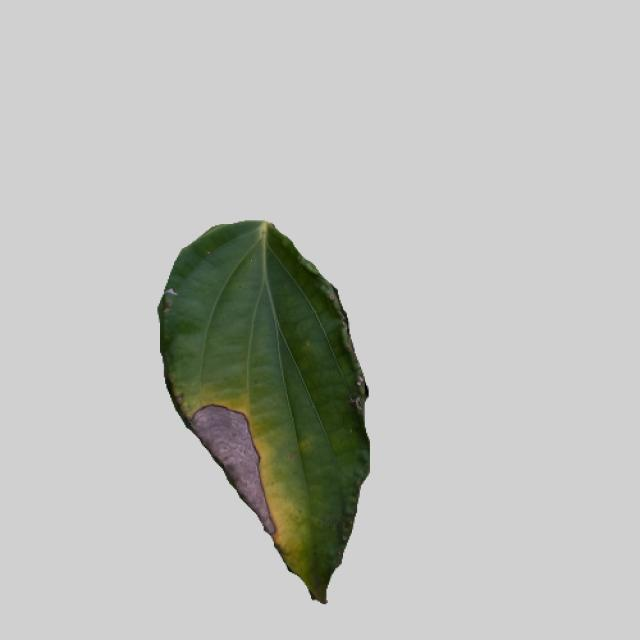leaf-blight: (147, 216, 370, 599)
